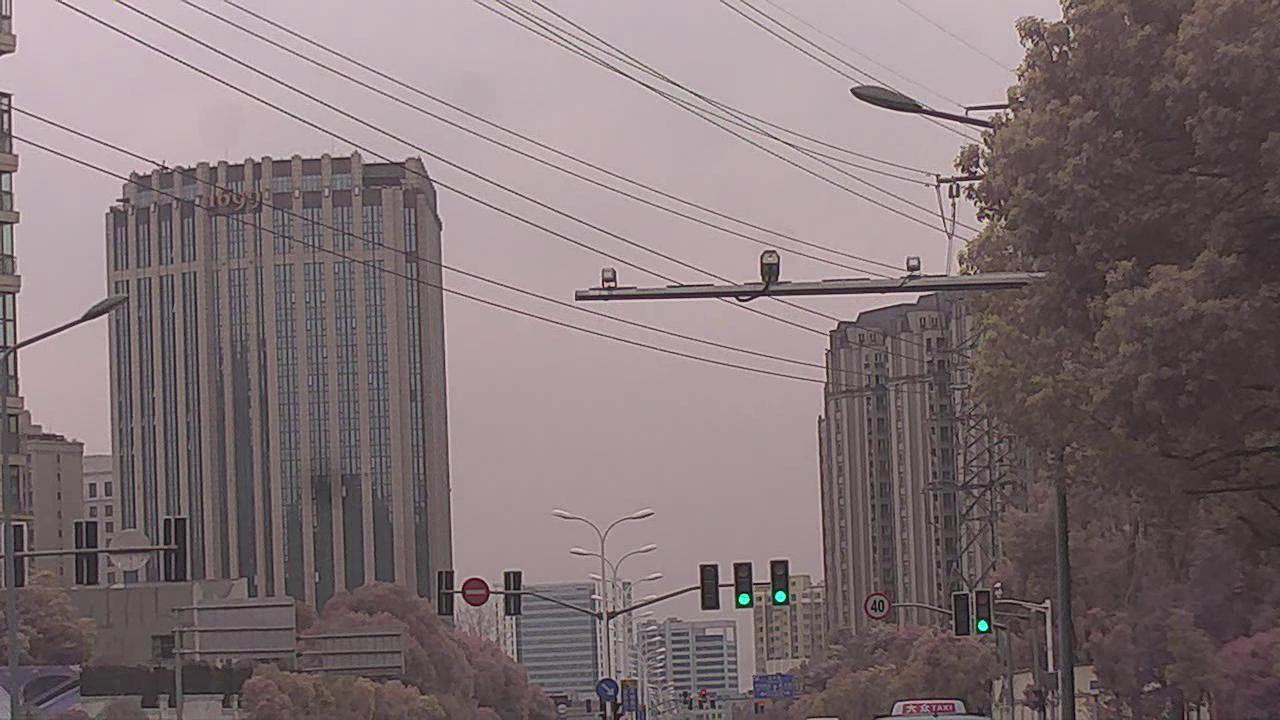traffic_light: (973, 589, 994, 636), (770, 561, 791, 606), (701, 563, 720, 611), (734, 562, 753, 610), (952, 591, 968, 638)
